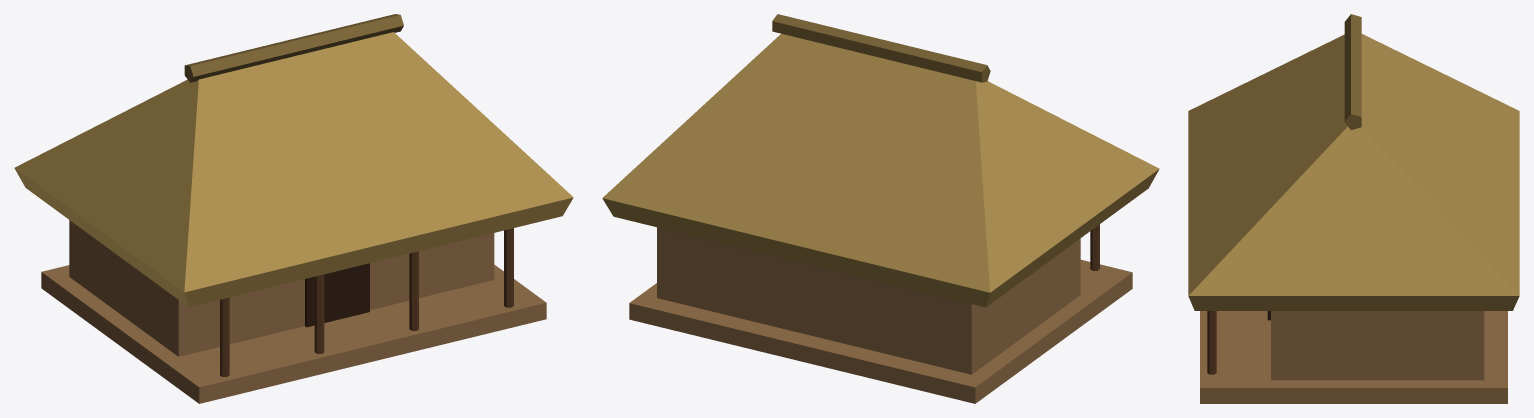
File: nha_tranh.glb
3 renders of one model, left to right at view 1: azimuth 30°, elevation 25°; view 2: azimuth 150°, elevation 25°; view 3: azimuth 270°, elevation 25°, orthographic. The views are drawn at different scales.
Parts seen in each view (by area): view 1: mai, nen, vach, noc, cua, cot-0.9, cot2.7, cot-2.7, cot0.9; view 2: mai, vach, nen, noc; view 3: mai, vach, nen, noc, cot2.7.
Boxes of the visible parts, x1,y1,x2,y2 form: mai: (14, 32, 573, 307); nen: (41, 264, 546, 403); vach: (69, 220, 494, 356); noc: (184, 14, 403, 82); cua: (305, 263, 369, 327); cot-0.9: (314, 274, 324, 353); cot2.7: (504, 228, 513, 307); cot-2.7: (220, 297, 229, 376); cot0.9: (409, 251, 418, 330); mai: (602, 33, 1159, 307); vach: (657, 227, 1080, 374); nen: (629, 259, 1132, 403); noc: (772, 14, 990, 82); mai: (1188, 34, 1519, 310); vach: (1271, 311, 1484, 380); nen: (1200, 311, 1507, 403); noc: (1344, 14, 1361, 130); cot2.7: (1207, 311, 1216, 374).
Bounding box in the file's own units: 7.4 × 4.8 × 5.6.
